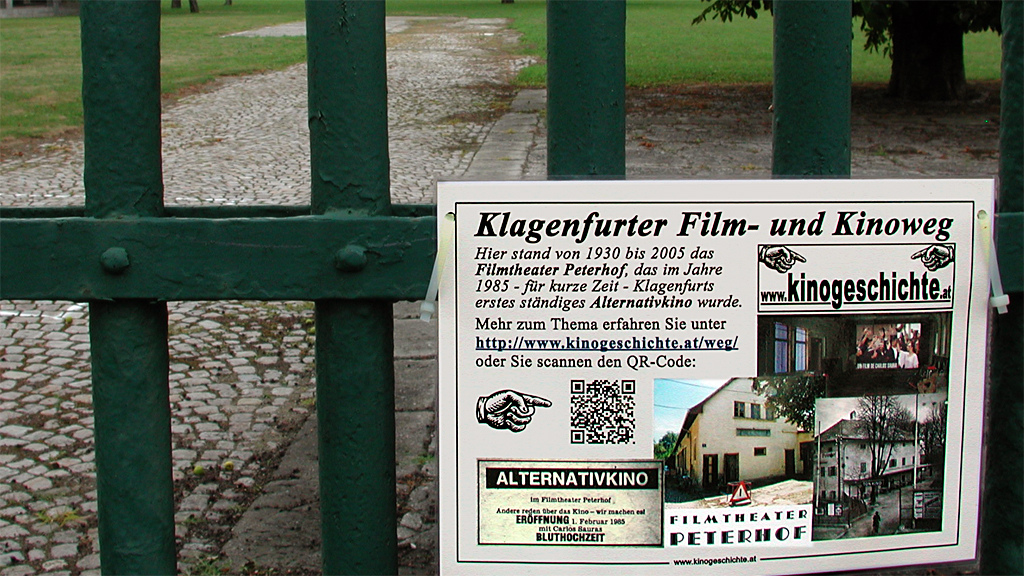QR-CODE: (571, 380, 634, 443)
